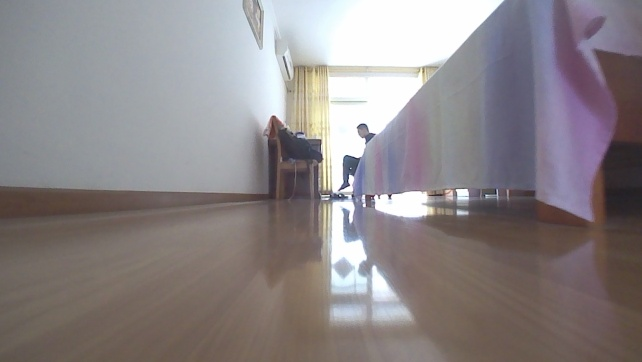bed1: (350, 0, 641, 226)
